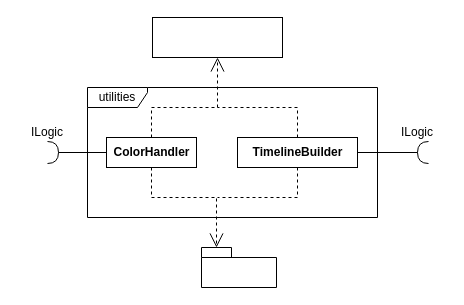
The diagram is 464 pixels wide and 305 high, and some of its shapes have lost their labels. The shapes that lost their labels are listed below. From the top down, each one's centre as x and y in pixels, then its label:
At point 217,37: "<<abstract>> DynamicGameBoard".
At point 238,267: "settings".
